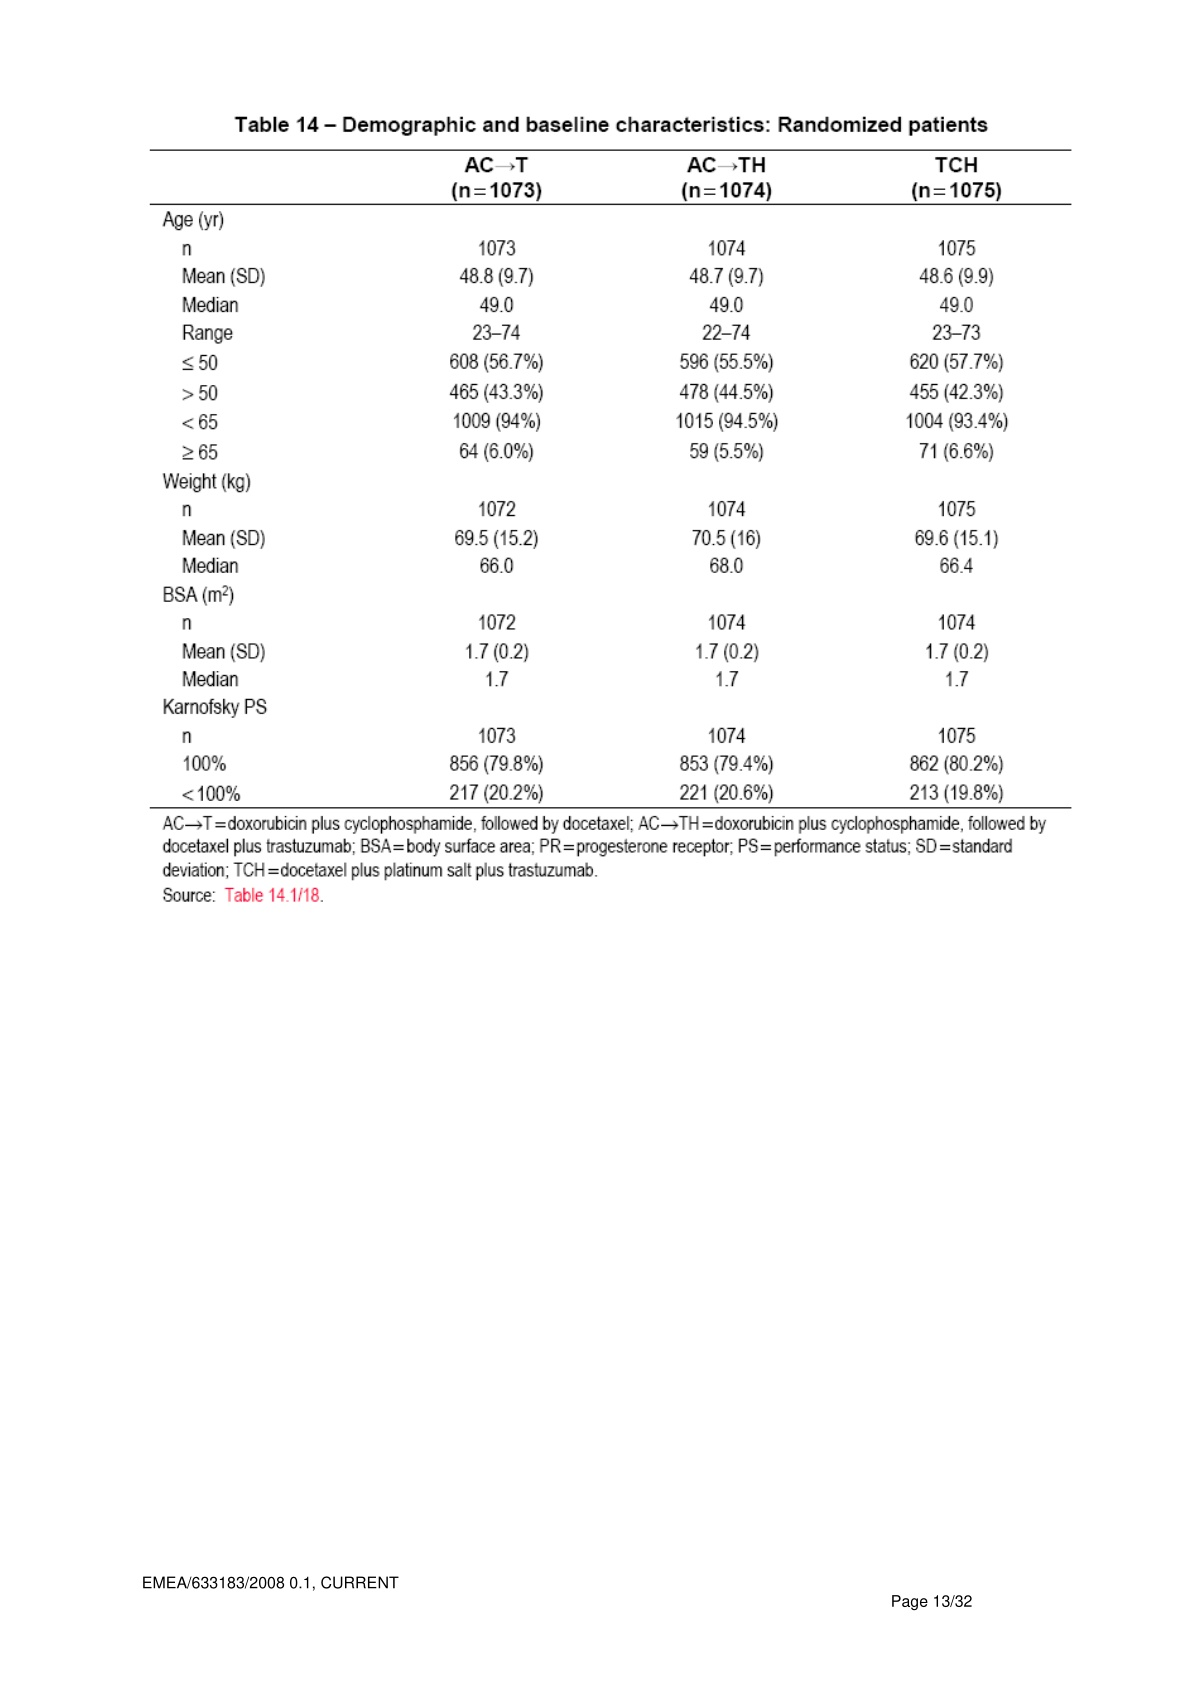partial_lined: (146, 148, 1078, 811)
